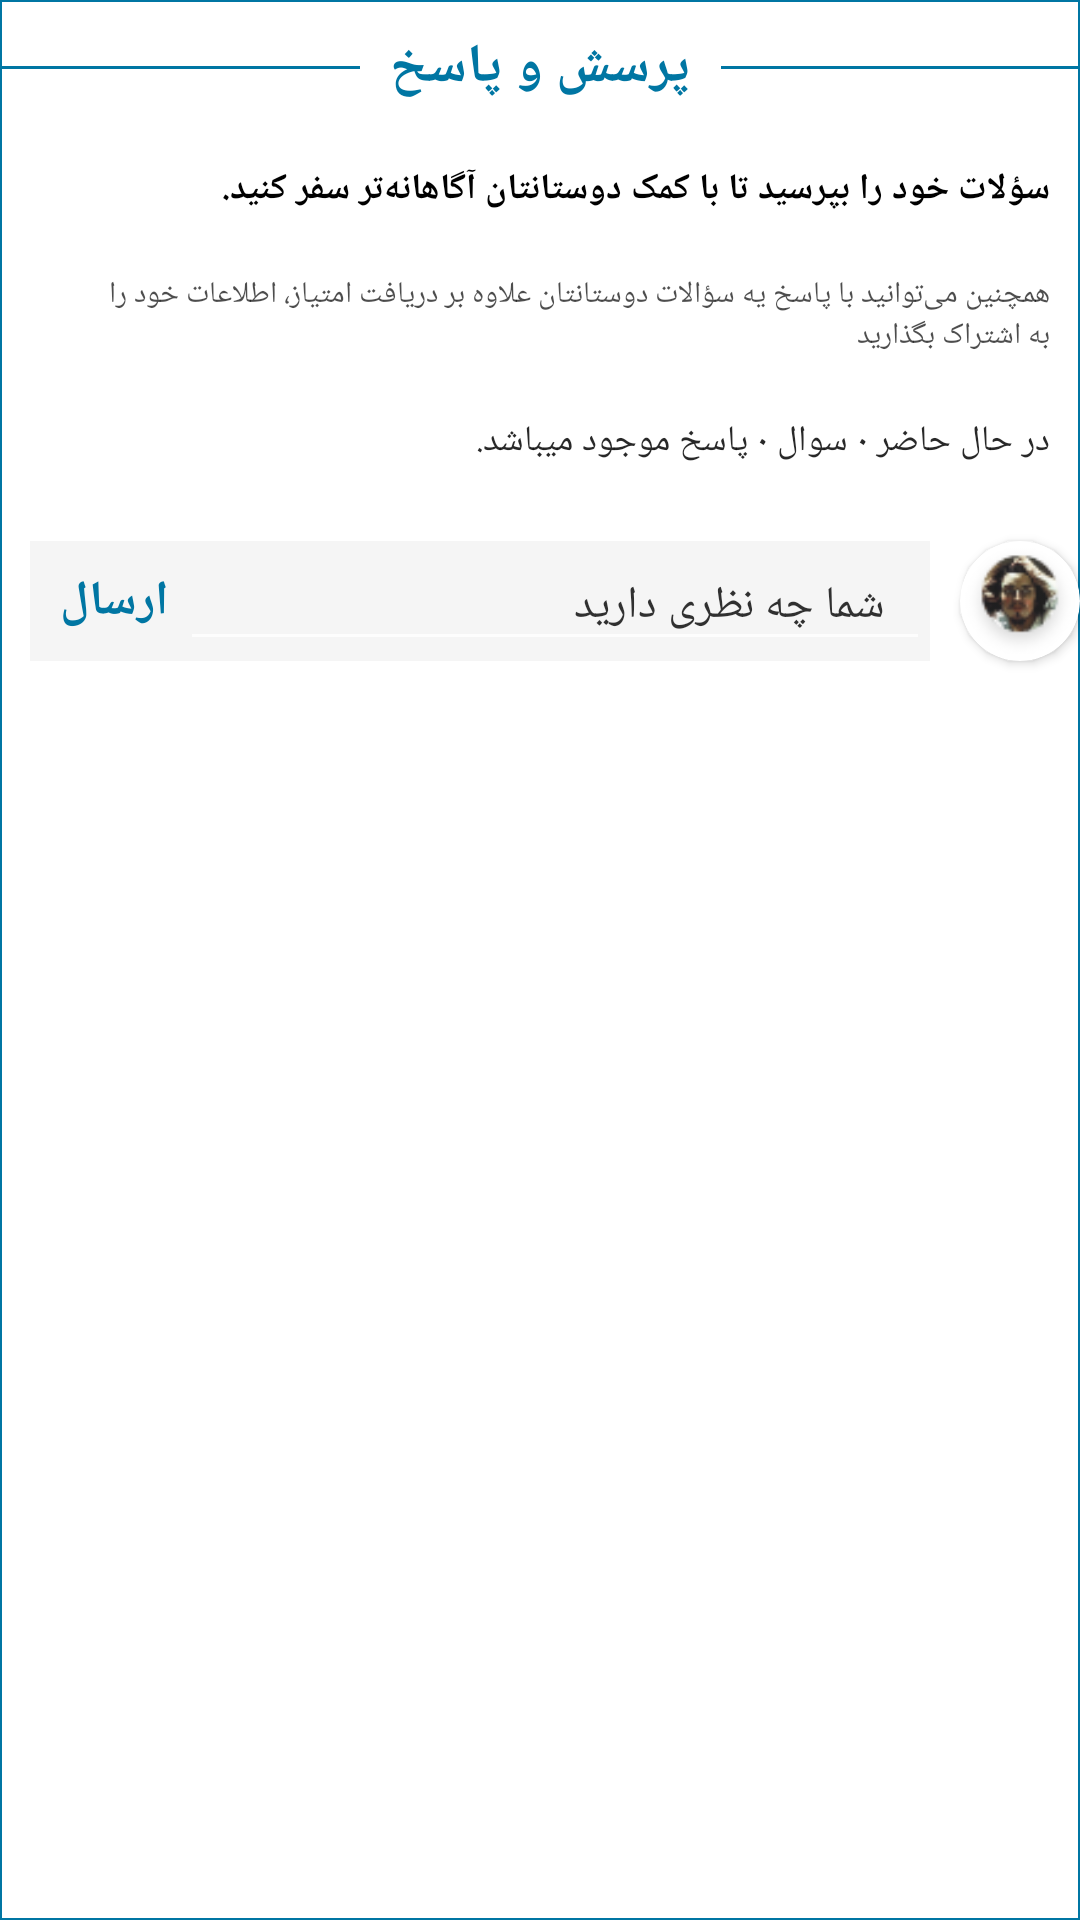

Icon click points for this 1080 × 1920 phone screenshot, format point (x, y):
userpic: point (1023, 597)
